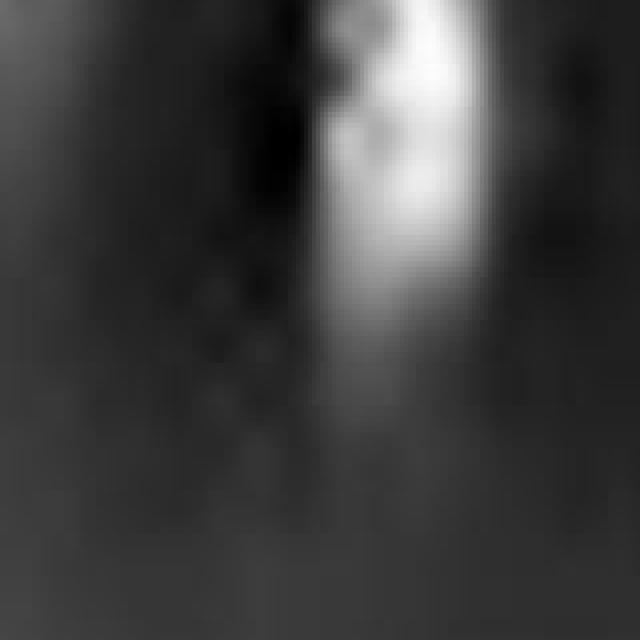person: (285, 1, 513, 406)
